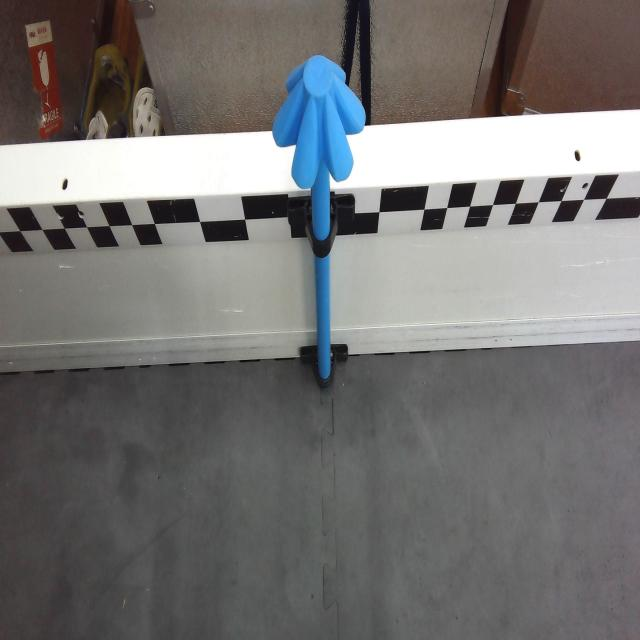zblue-Stake-Head: (272, 55, 366, 189)
